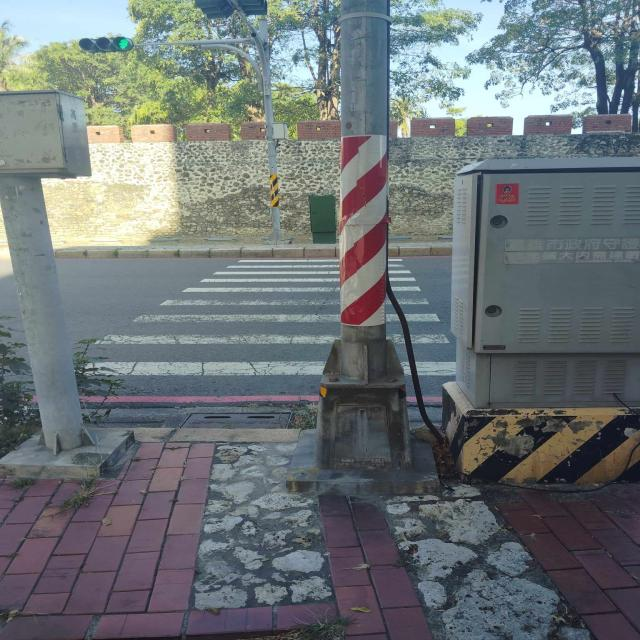zebra_crossing: (192, 156, 580, 480), (72, 175, 196, 556)
